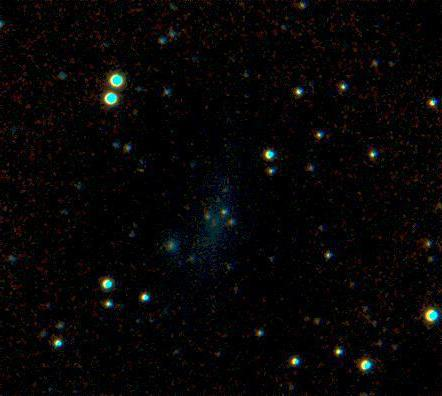star: (131, 148, 161, 178)
